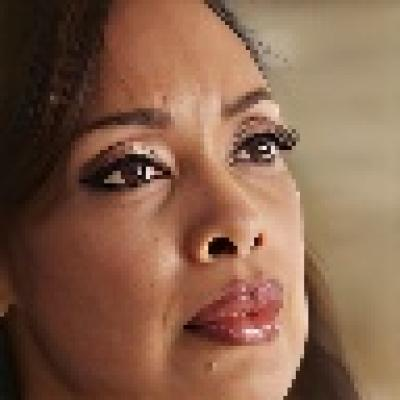sad: (18, 0, 311, 400)
